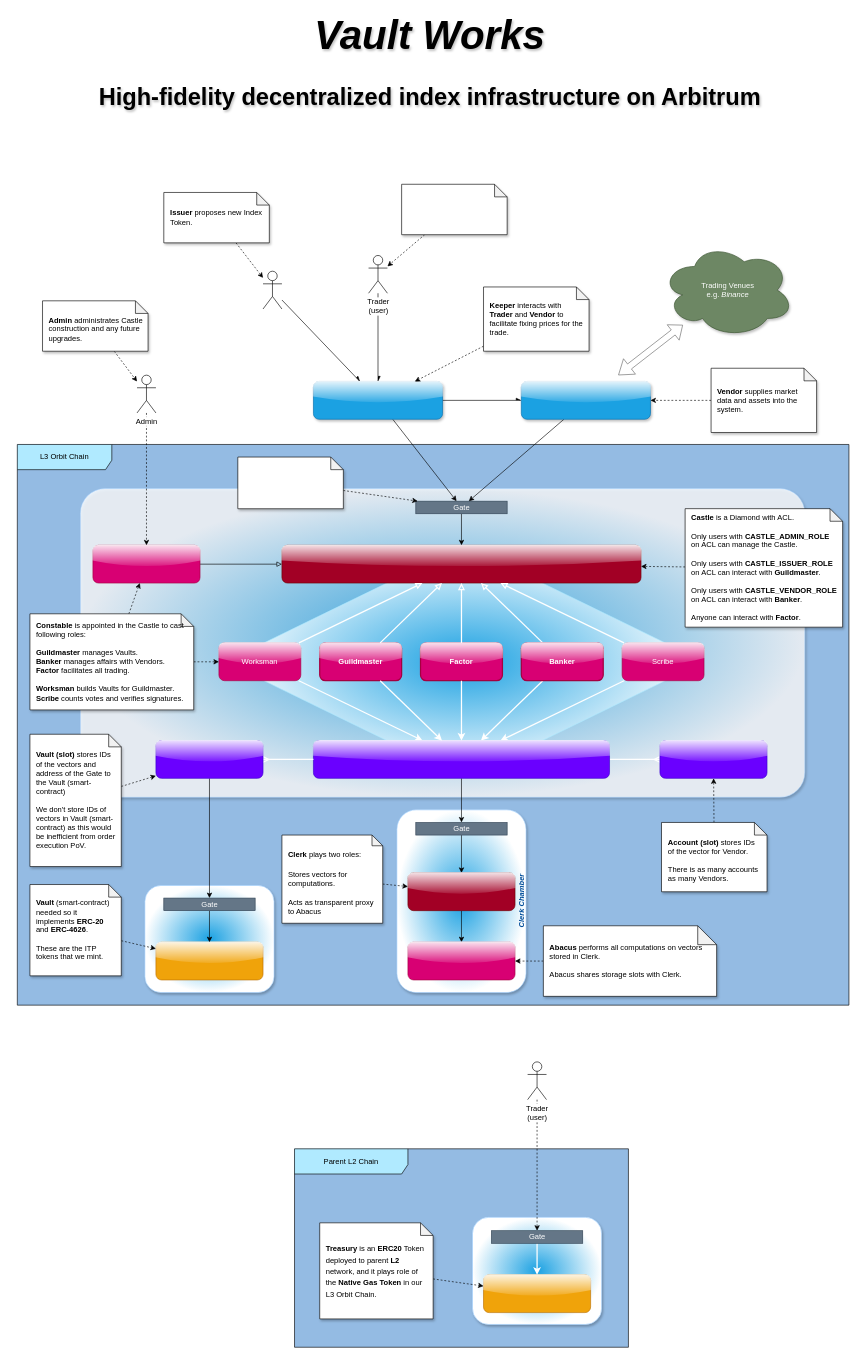
This 860x1358 diagram has some shape labels left out. The centre of each missing label's shape, as x and y in pixels:
Abacus: the point at 461,961
Account (storage slot): the point at 713,759
Castle: the point at 461,564
Clerk: the point at 461,891
Constable: the point at 146,564
Gate enables upgradeability. UUPS / ERC-1967: the point at 291,483
Issuer (curator): the point at 272,290
Keep (storage slot): the point at 461,759
Keeper (off-chain service): the point at 378,401
Trader is regular user who wants to buy or sell Index Token.: the point at 454,210
Treasury: the point at 537,1293
Vault: the point at 209,961
Vault (storage slot): the point at 209,759
Vendor (off-chain service): the point at 586,401
